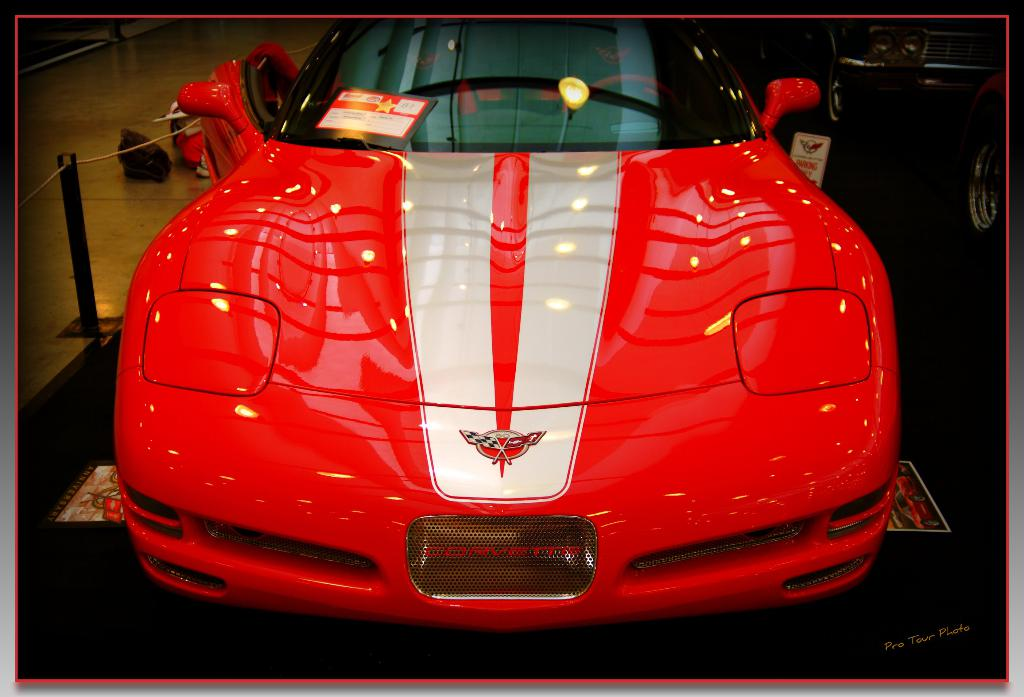mobil: (85, 46, 909, 636)
